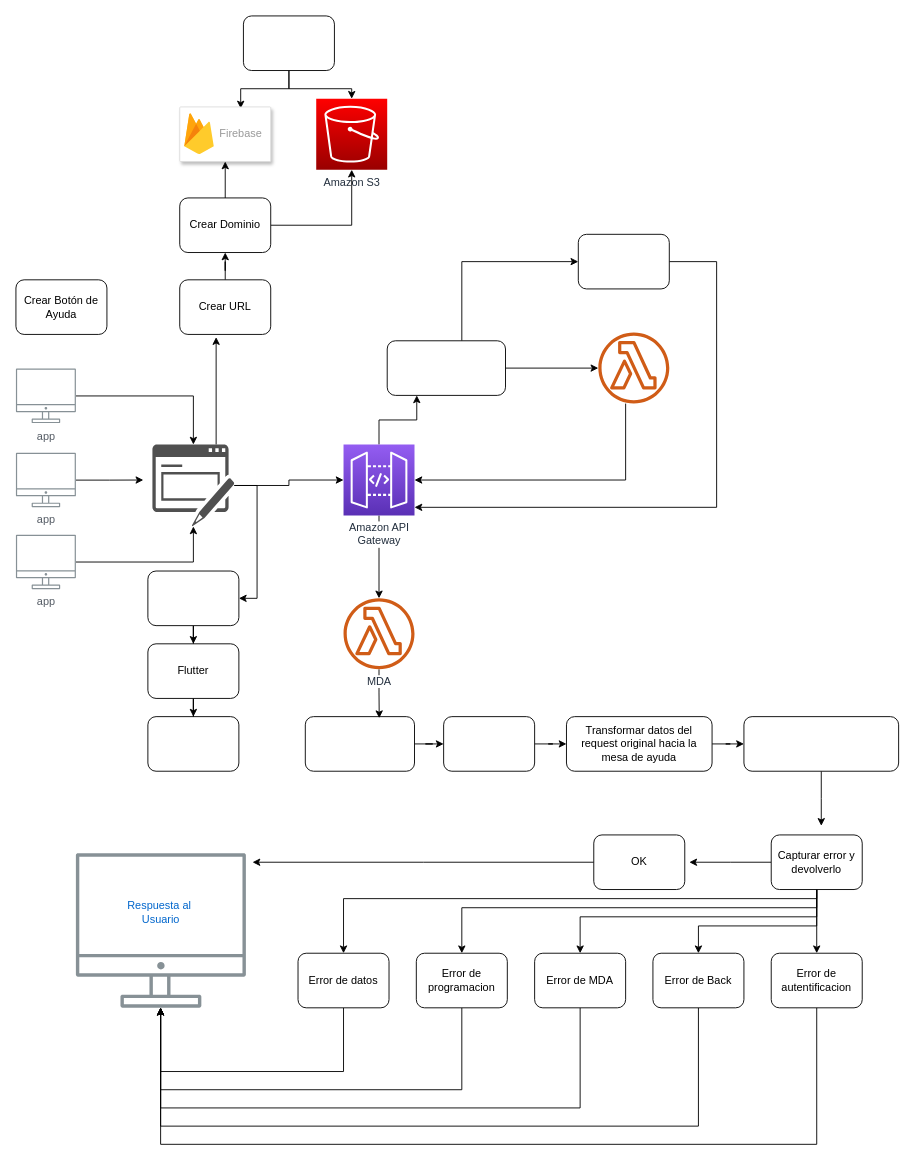
Some shapes in this 915 by 1168 pixel diagram are drawn without their labels. The centre of each missing label's shape, as x and y in pixels:
Crear formulario: (193,598)
Crear request en el codigo: (489,743)
Crear request Valido a MDA con los datos necesarios: (359,743)
Custom Authorizer: (633,367)
Elegir Deploy Indicado: (288,43)
Guardar api key de MDA en variable de entorno: (821,743)
Implementar integracion POST header: x-api-key: (446,367)
Otra opcion de validacion de Api Key: (623,261)
Tutoriales: (193,743)
